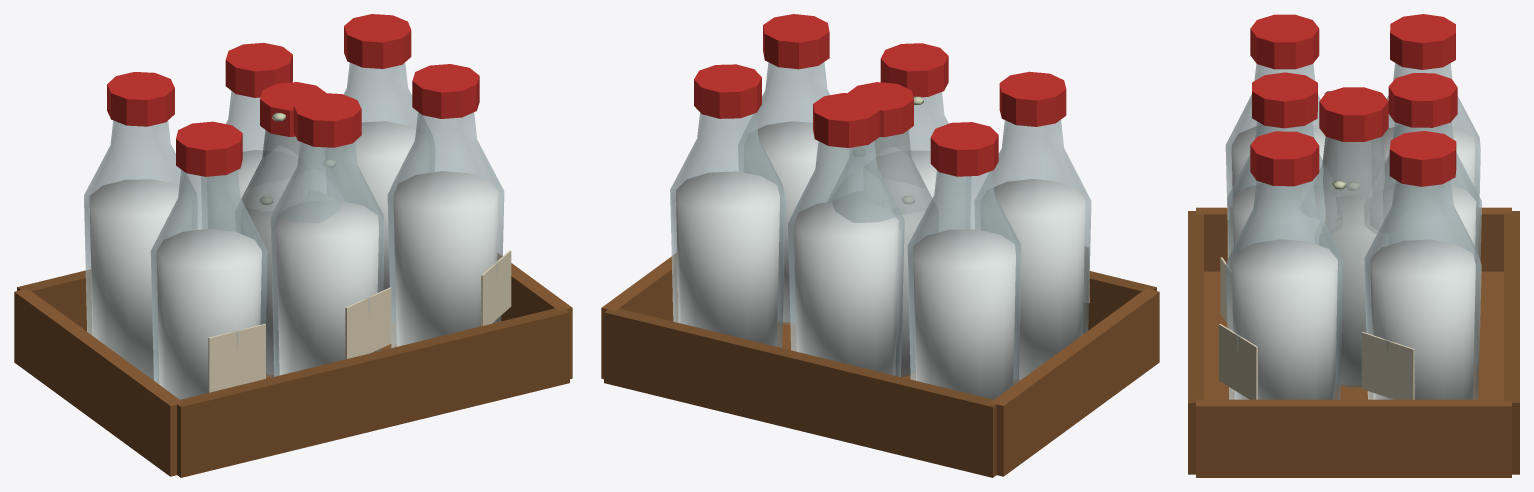
The model's file is Ranch_Milk.fbx.
The picture shows the model from 3 angles, left to right: view 1: azimuth 30°, elevation 25°; view 2: azimuth 150°, elevation 25°; view 3: azimuth 270°, elevation 25°; orthographic projection.
Visible parts, largest first — view 1: Ranch_Milk__Stack, Ranch_Milk, Ranch_Milk__Rotten; view 2: Ranch_Milk__Stack, Ranch_Milk, Ranch_Milk__Rotten; view 3: Ranch_Milk__Stack, Ranch_Milk, Ranch_Milk__Rotten.
Part boxes in pixels (bbox=[...]): Ranch_Milk__Stack: bbox=[14, 14, 572, 477]; Ranch_Milk: bbox=[240, 82, 344, 377]; Ranch_Milk__Rotten: bbox=[241, 112, 335, 376]; Ranch_Milk__Stack: bbox=[601, 14, 1159, 477]; Ranch_Milk: bbox=[829, 82, 933, 376]; Ranch_Milk__Rotten: bbox=[853, 96, 931, 376]; Ranch_Milk__Stack: bbox=[1188, 14, 1519, 477]; Ranch_Milk: bbox=[1313, 87, 1394, 387]; Ranch_Milk__Rotten: bbox=[1322, 91, 1384, 387].
Size of the model in its own units: 0.238 by 0.163 by 0.168.
